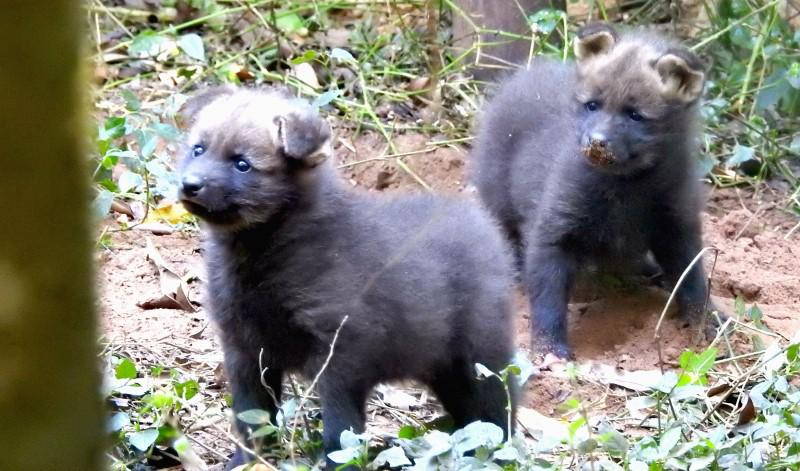LoboGuara: (169, 77, 533, 439), (473, 13, 740, 366)
